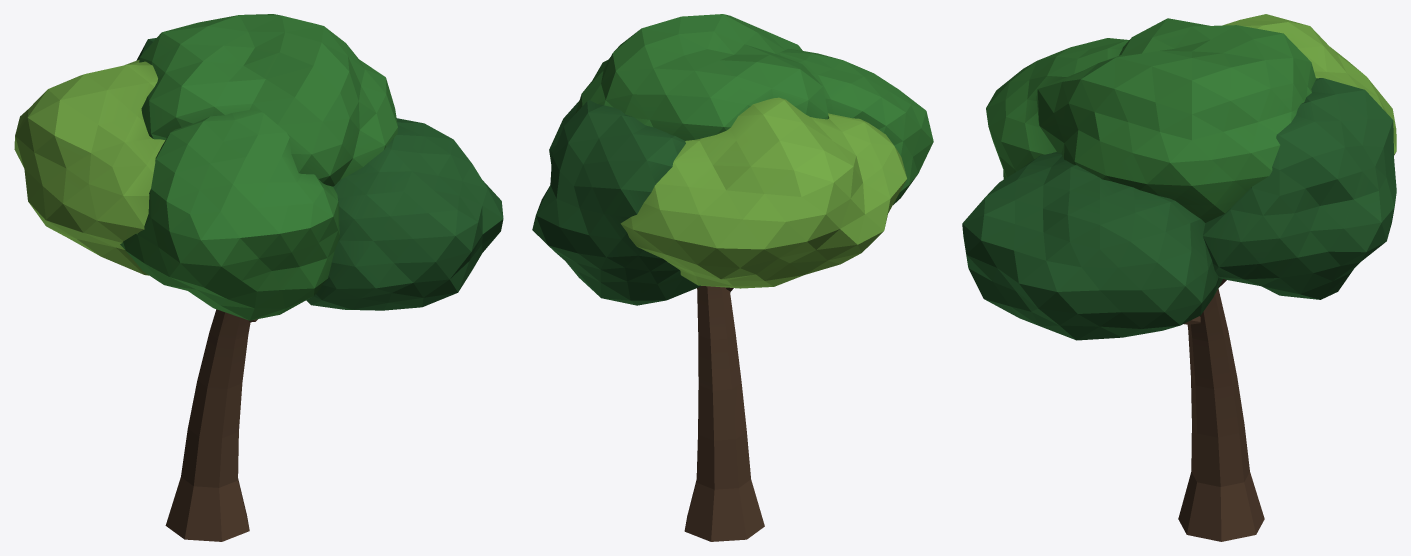
File: Tree2.fbx
3 views of the same model, side by side, from view 1: azimuth 30°, elevation 25°; view 2: azimuth 150°, elevation 25°; view 3: azimuth 270°, elevation 25° (orthographic). The views are drawn at different scales.
Parts seen in each view (by area): view 1: Tree2; view 2: Tree2; view 3: Tree2.
Part boxes in pixels (x1,y1,x2,y2): Tree2: (14,14,503,541); Tree2: (532,14,933,541); Tree2: (962,14,1396,541).
Bounding box in the file's own units: 5.59 × 6.9 × 5.48.
